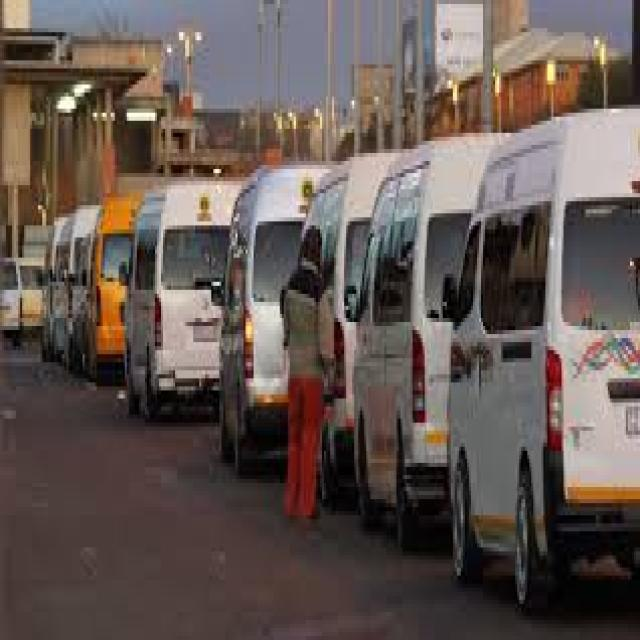MiniBus taxi: (449, 88, 640, 612), (352, 133, 481, 547), (215, 153, 328, 471), (119, 161, 237, 415)
Pedestrians: (280, 225, 330, 528)
